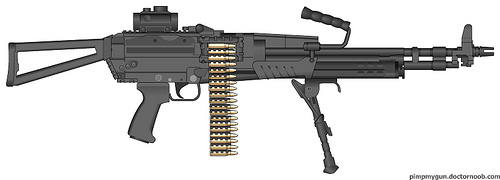rifle: (11, 9, 488, 169)
